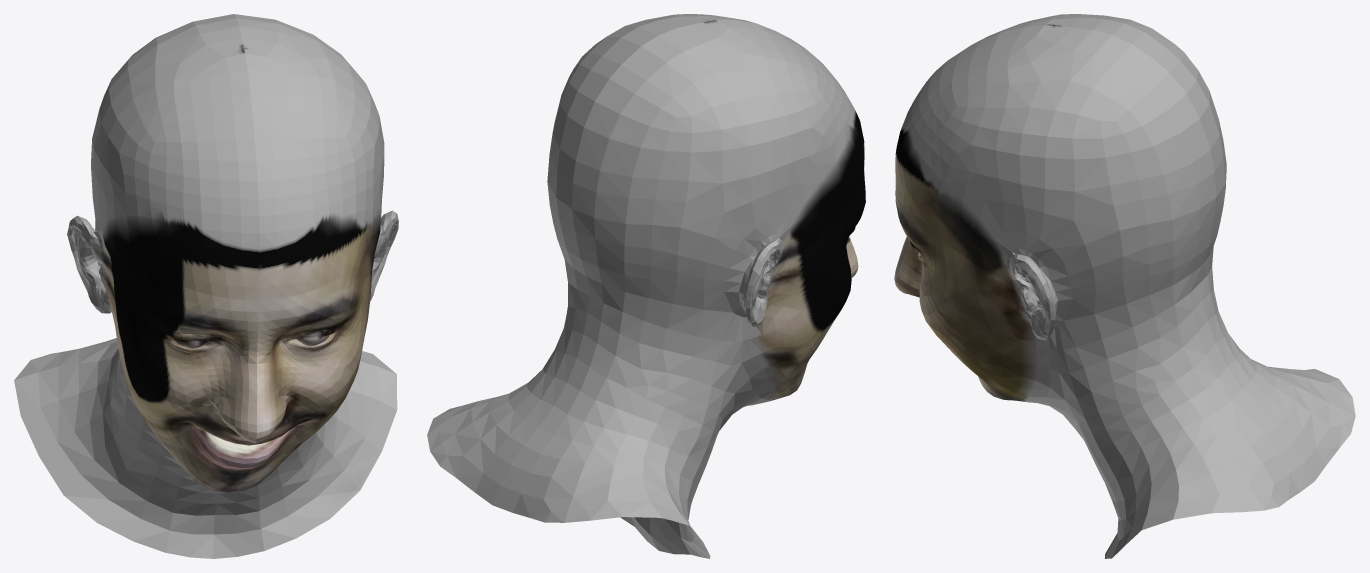
Rendered from ezgif-frame-081.obj.
3 renders of one model, left to right at view 1: azimuth 30°, elevation 25°; view 2: azimuth 150°, elevation 25°; view 3: azimuth 270°, elevation 25°, orthographic. The views are drawn at different scales.
Size of the model in its own units: 0.2141 by 0.3249 by 0.2667.
1 material, 1 textured.
